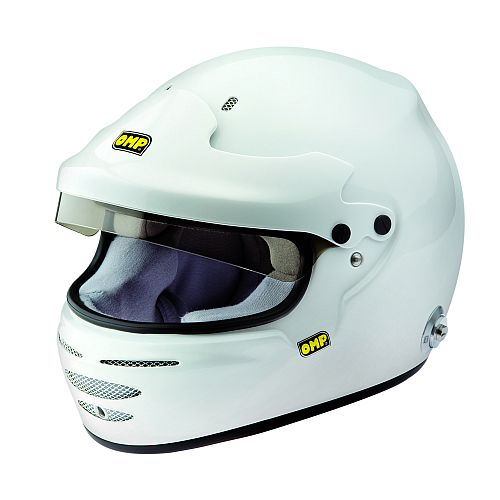helmet: (26, 17, 476, 463)
